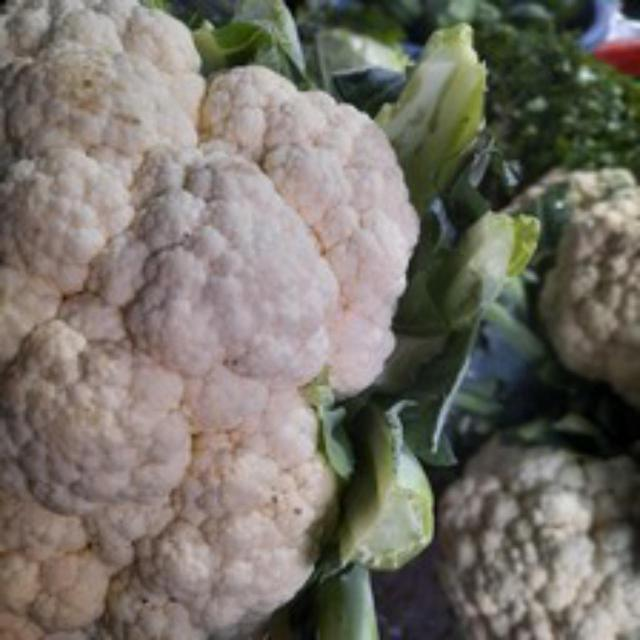cauliflower: (0, 3, 426, 637)
